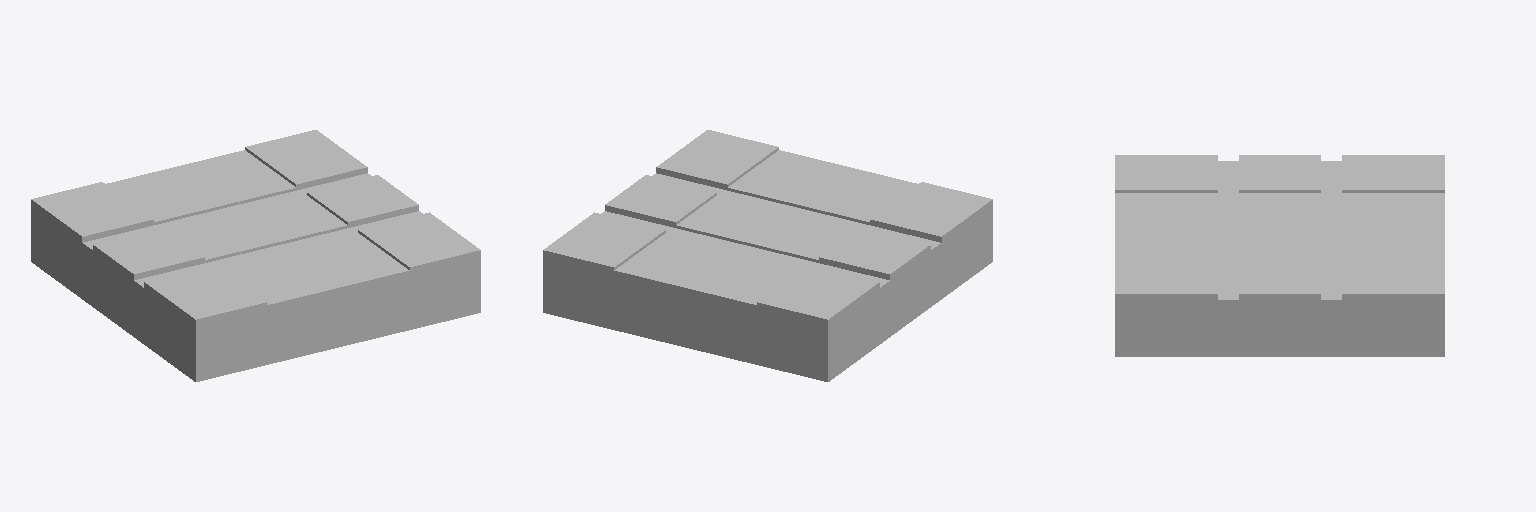
File: tile275.obj
3 renders of one model, left to right at view 1: azimuth 30°, elevation 25°; view 2: azimuth 150°, elevation 25°; view 3: azimuth 270°, elevation 25°, orthographic.
Visible parts, largest first — view 1: tile275; view 2: tile275; view 3: tile275.
Part boxes in pixels (bbox=[...]): tile275: bbox=[31, 130, 480, 381]; tile275: bbox=[543, 130, 992, 381]; tile275: bbox=[1115, 155, 1444, 356].
Bounding box in the file's own units: 1 × 0.21 × 1.